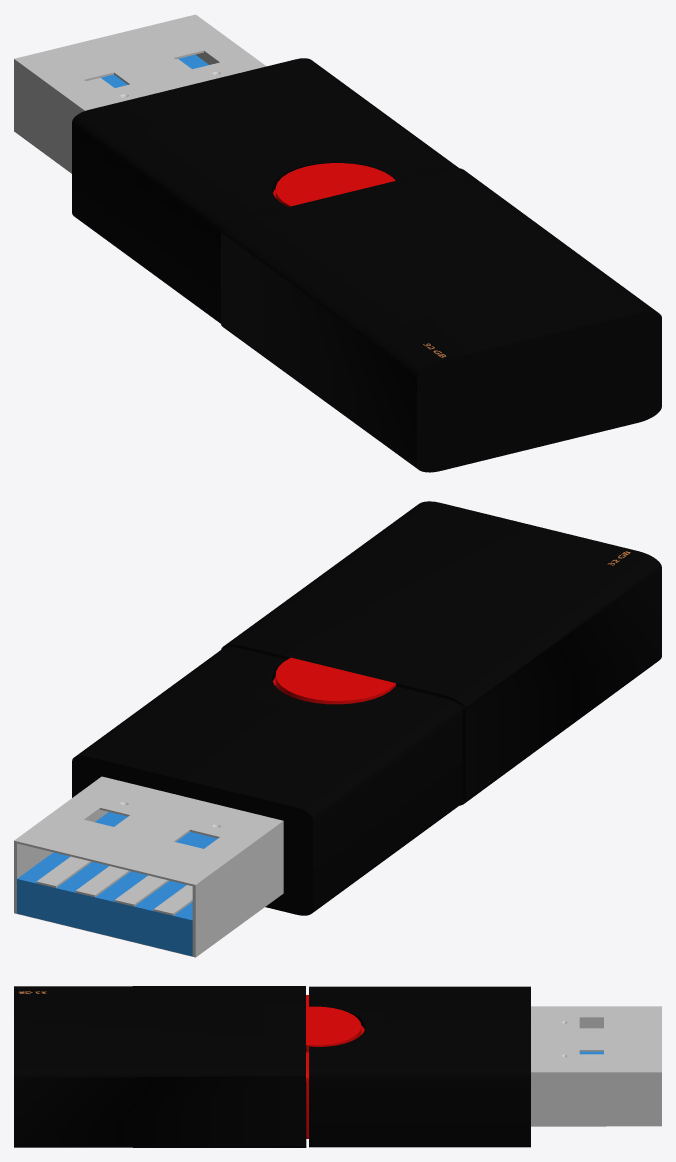
Rendered from USB.dae.
3 views of the same model, one above another, from view 1: azimuth 30°, elevation 25°; view 2: azimuth 150°, elevation 25°; view 3: azimuth 270°, elevation 25° (orthographic). The views are drawn at different scales.
Visible parts, largest first — view 1: USB, USB Slider; view 2: USB, USB Slider; view 3: USB, USB Slider.
Boxes of the visible parts, left/top/right/bottom form: USB: left=14, top=14, right=661, bottom=472; USB Slider: left=72, top=58, right=458, bottom=323; USB: left=14, top=501, right=661, bottom=957; USB Slider: left=72, top=646, right=462, bottom=915; USB: left=14, top=986, right=661, bottom=1147; USB Slider: left=309, top=986, right=530, bottom=1147.
Bounding box in the file's own units: 22.23 × 68.28 × 9.53.
